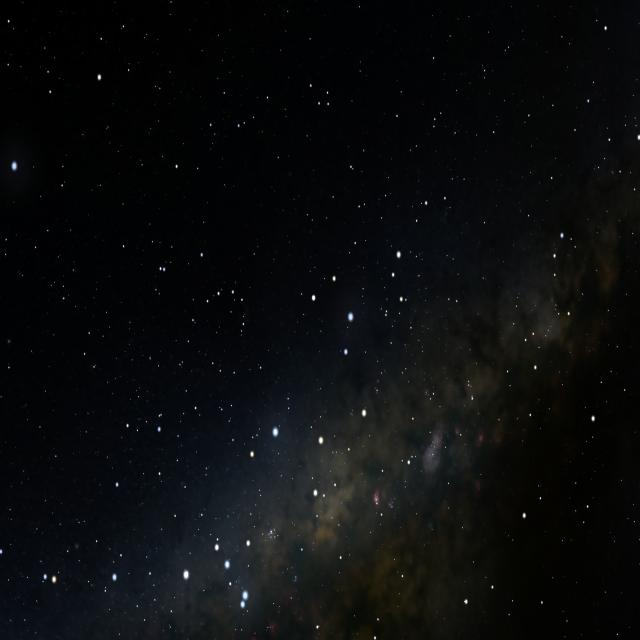Sagittarius: (154, 73, 435, 569)
